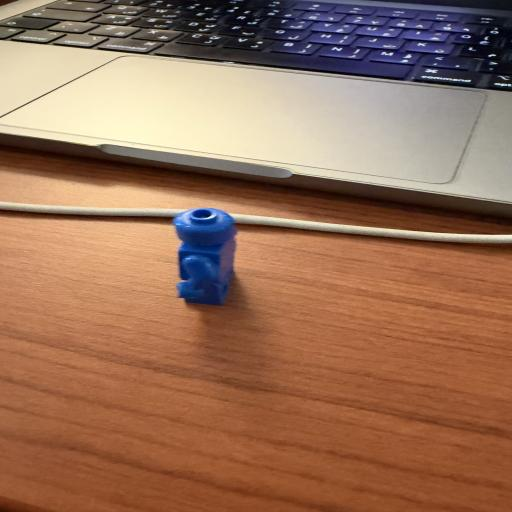Minifig: (172, 207, 238, 307)
